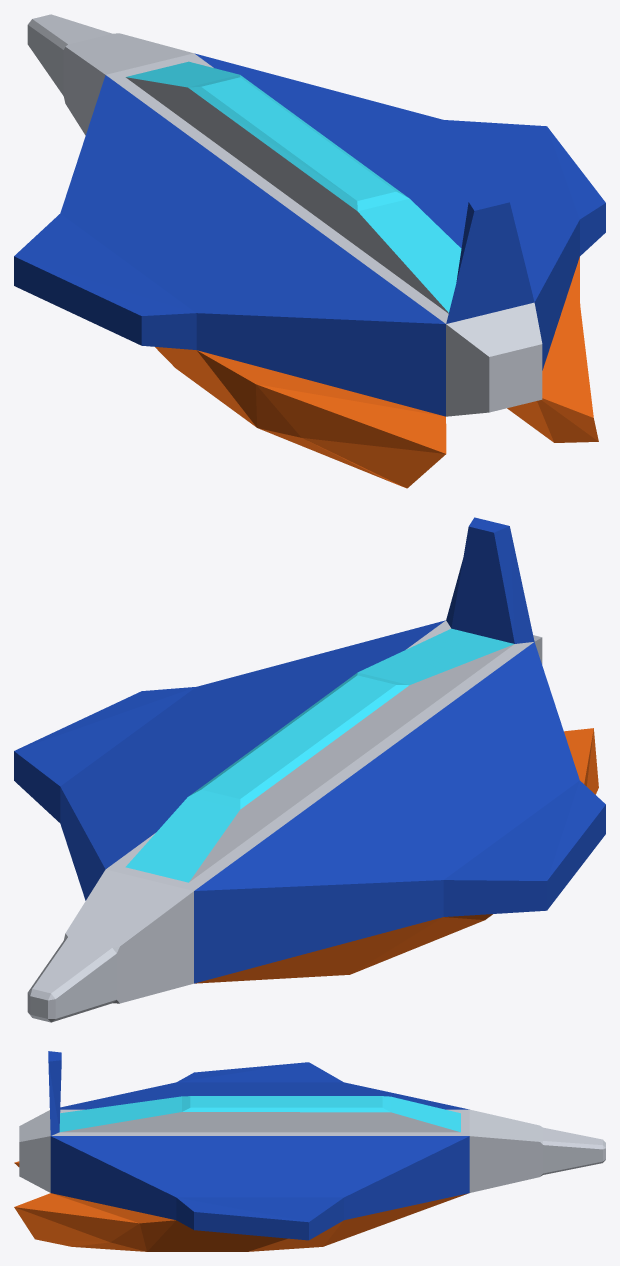
Rendered from nave_espacial.obj.
3 renders of one model, top to bottom at view 1: azimuth 30°, elevation 25°; view 2: azimuth 150°, elevation 25°; view 3: azimuth 270°, elevation 25°, orthographic. The views are drawn at different scales.
Visible parts, largest first — view 1: nave_espacial; view 2: nave_espacial; view 3: nave_espacial.
Boxes of the visible parts, box(x1,y1,x2,y2) form: nave_espacial: box(14, 14, 605, 488); nave_espacial: box(14, 517, 605, 1022); nave_espacial: box(14, 1051, 605, 1251).
Bounding box in the file's own units: 3.62 × 1.75 × 5.65.
